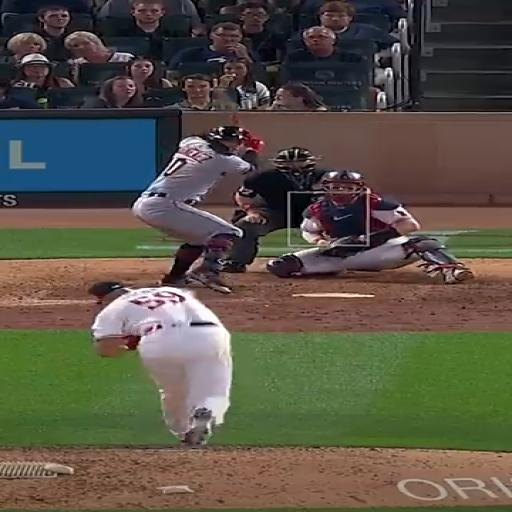bat: (215, 89, 244, 126)
